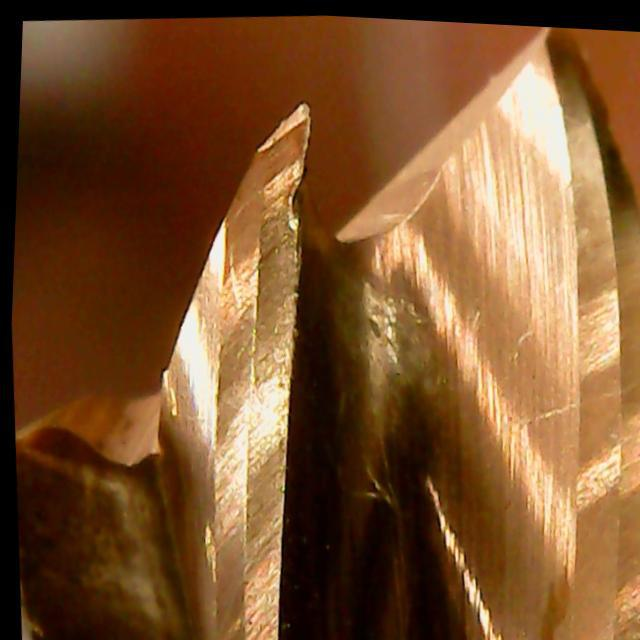Tool-wear-class-1: (146, 86, 345, 467)
